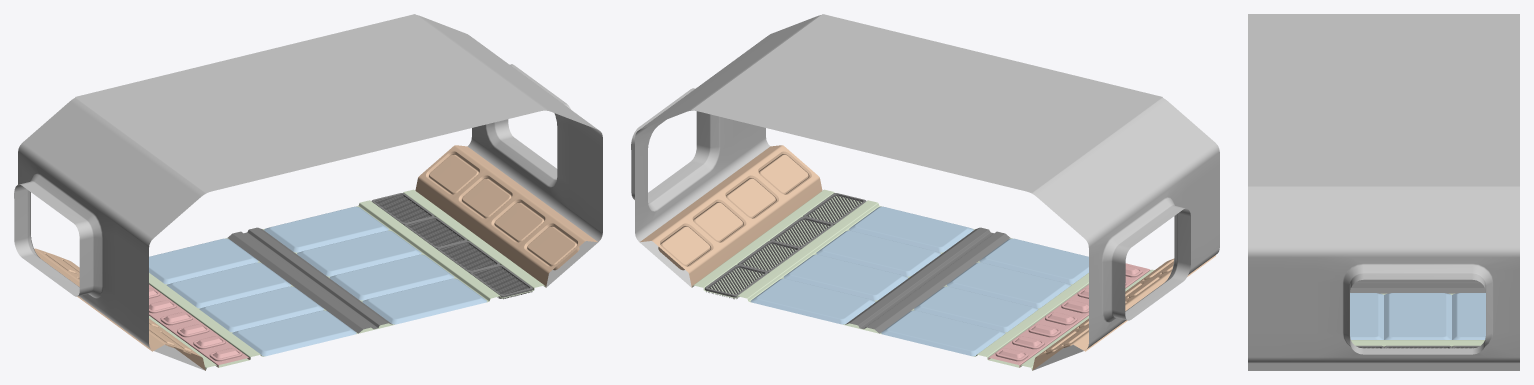
Rendered from MOD_4.fbx.
The picture shows the model from 3 angles, left to right: view 1: azimuth 30°, elevation 25°; view 2: azimuth 150°, elevation 25°; view 3: azimuth 270°, elevation 25°; orthographic projection. The views are drawn at different scales.
Parts seen in each view (by area): view 1: MOD_4; view 2: MOD_4; view 3: MOD_4.
Part boxes in pixels (box(x1,y1,x2,y2)): MOD_4: box(14, 14, 602, 370); MOD_4: box(631, 14, 1219, 370); MOD_4: box(1248, 14, 1519, 370).
Bounding box in the file's own units: 8.72 × 3.03 × 4.
